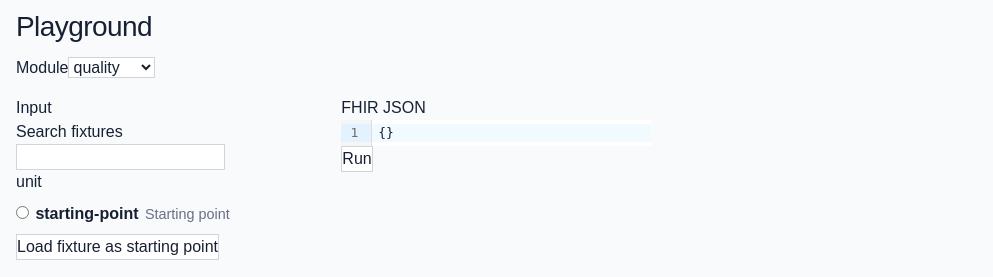
Playground › renders an ApiError response with its request id
The width and height of the screenshot is (993, 277).
Click the button "Run".
click(357, 159)  # box [341, 146, 373, 172]
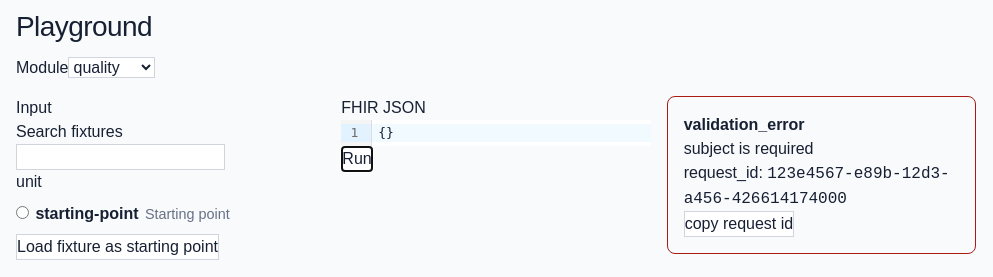
expect the message shows "validation_error": met, box [684, 116, 805, 133]
expect the message shows "123e4567-e89b-12d3-a456-426614174000": met, box [684, 165, 950, 208]
